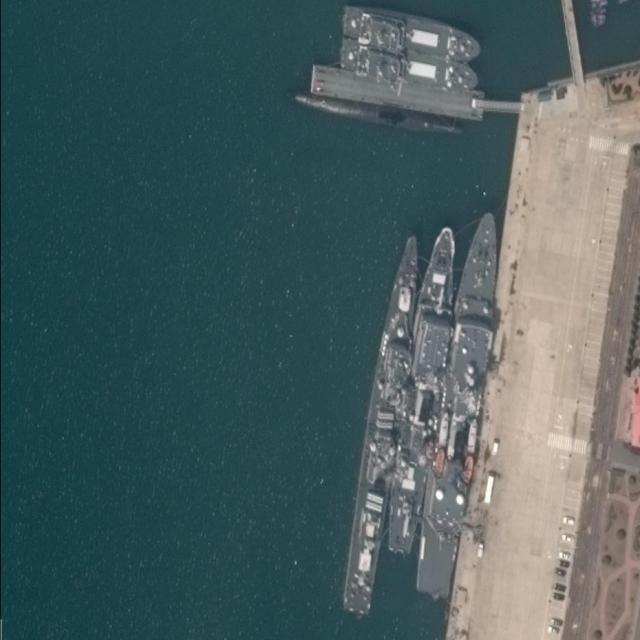Auxiliary Ships: (414, 209, 507, 599), (381, 220, 469, 561)
Destroyer: (339, 235, 425, 616)
Landing: (336, 35, 480, 100), (340, 6, 484, 58)
Submarine: (283, 89, 467, 139)
